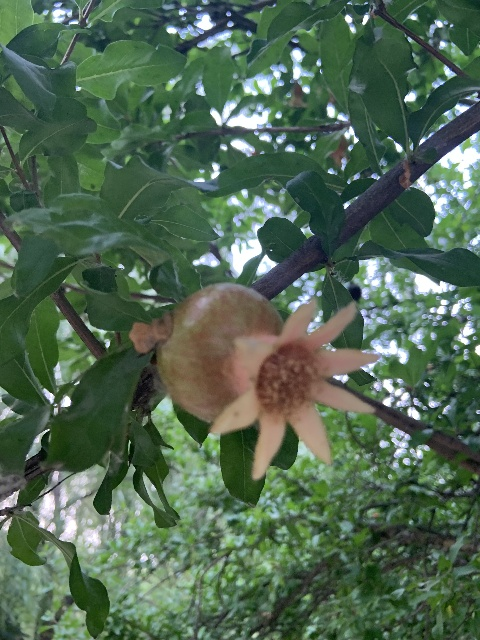early-fruit: (157, 284, 380, 480)
